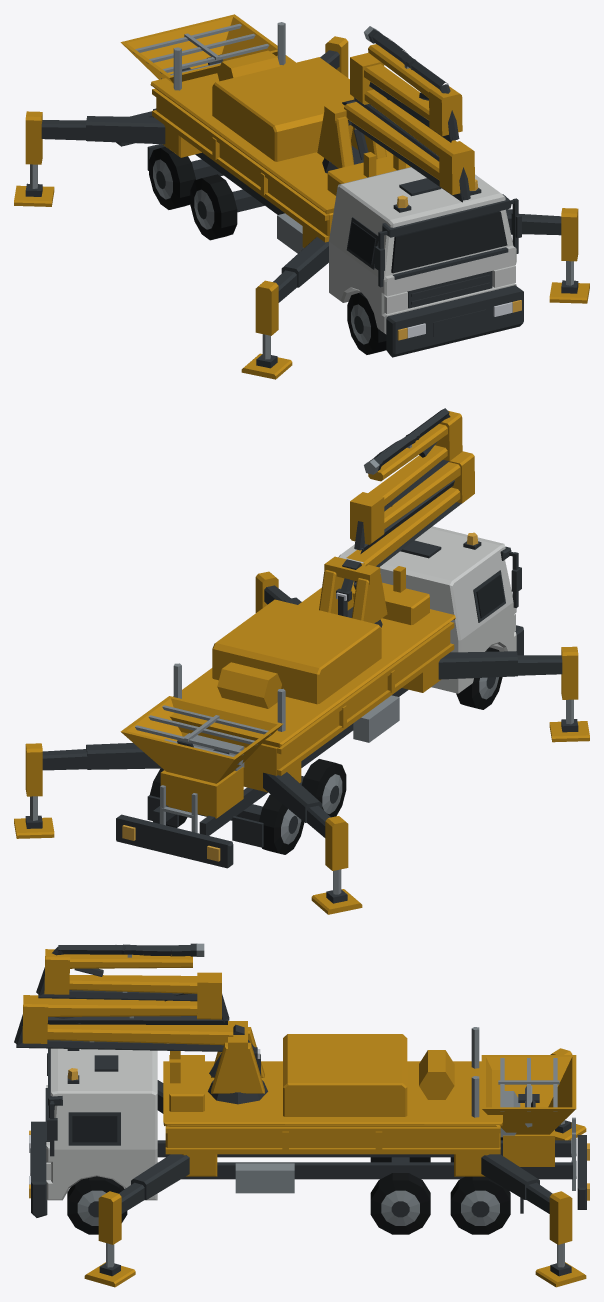
Rendered from concrete-pump-c073ef.glb.
The picture shows the model from 3 angles, top to bottom: view 1: azimuth 30°, elevation 25°; view 2: azimuth 150°, elevation 25°; view 3: azimuth 270°, elevation 25°; orthographic projection. The views are drawn at different scales.
Parts seen in each view (by area): view 1: truck-body, wheel-mesh-r (×3), boom-section-1, outrigger-beam-rr, boom-section-3, boom-section-2, outrigger-beam-fr, pedestal, boom-section-4, outrigger-beam-fl, jack-leg-fr, jack-leg-rr (+2 smaller); view 2: truck-body, wheel-mesh-r (×3), outrigger-beam-fr, boom-section-2, boom-section-1, outrigger-beam-rl, pedestal, outrigger-beam-rr, boom-section-3, boom-section-4, jack-leg-rr, jack-leg-rl (+2 smaller); view 3: truck-body, wheel-mesh-l (×3), boom-section-1, boom-section-2, boom-section-3, pedestal, outrigger-beam-fl, outrigger-beam-rl, boom-section-4, jack-leg-fl, jack-leg-rl, end-hose.
Part boxes in pixels (x1,y1,x2,y2): truck-body: (116, 14, 523, 357); wheel-mesh-r (×3): (149, 146, 386, 354); boom-section-1: (342, 99, 474, 202); outrigger-beam-rr: (25, 111, 165, 164); boom-section-3: (364, 64, 462, 142); boom-section-2: (350, 52, 456, 161); outrigger-beam-fr: (255, 237, 328, 335); pedestal: (317, 99, 386, 173); boom-section-4: (368, 29, 450, 98); outrigger-beam-fl: (506, 208, 578, 261); jack-leg-fr: (241, 334, 292, 379); jack-leg-rr: (14, 164, 54, 206); truck-body: (116, 526, 523, 868); wheel-mesh-r (×3): (258, 647, 502, 854); outrigger-beam-fr: (438, 646, 578, 699); boom-section-2: (350, 462, 460, 553); boom-section-1: (342, 451, 474, 582); outrigger-beam-rl: (25, 743, 162, 796); pedestal: (319, 556, 387, 627); outrigger-beam-rr: (263, 772, 348, 870); boom-section-3: (368, 410, 462, 511); boom-section-4: (368, 408, 450, 481); jack-leg-rr: (311, 869, 362, 914); jack-leg-rl: (14, 796, 54, 838); truck-body: (29, 1027, 589, 1217); wheel-mesh-l (×3): (67, 1173, 510, 1234); boom-section-1: (14, 995, 244, 1051); boom-section-2: (47, 972, 229, 1024); boom-section-3: (36, 949, 197, 1001); pedestal: (208, 1021, 267, 1104); outrigger-beam-fl: (98, 1154, 189, 1244); outrigger-beam-rl: (481, 1154, 572, 1244); boom-section-4: (52, 943, 196, 968); jack-leg-fl: (84, 1243, 135, 1287); jack-leg-rl: (535, 1243, 586, 1287); end-hose: (121, 943, 204, 956).
Bounding box in the file's own units: 6.58 × 4.88 × 9.74.
